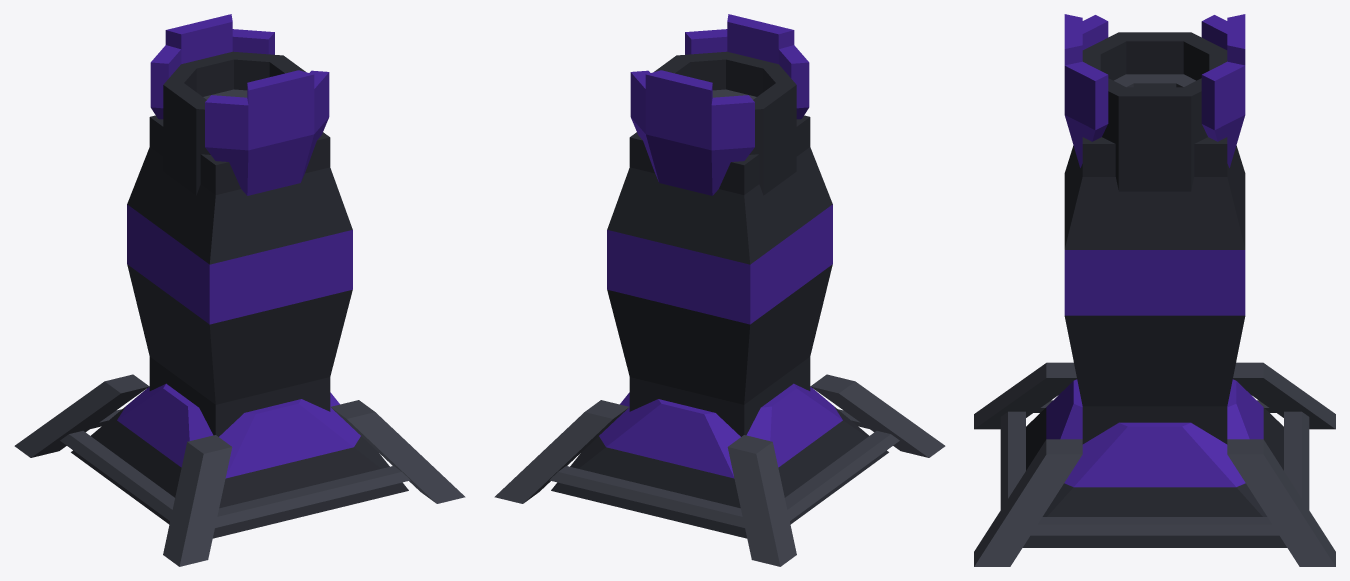
Rendered from Enemy_Tower_1.fbx.
3 renders of one model, left to right at view 1: azimuth 30°, elevation 25°; view 2: azimuth 150°, elevation 25°; view 3: azimuth 270°, elevation 25°, orthographic. The views are drawn at different scales.
Visible parts, largest first — view 1: mergedBlocks; view 2: mergedBlocks; view 3: mergedBlocks.
Part boxes in pixels (x1,y1,x2,y2): mergedBlocks: (14, 14, 465, 566); mergedBlocks: (494, 14, 945, 566); mergedBlocks: (974, 14, 1335, 566).
Bounding box in the file's own units: 20 × 28 × 20.
